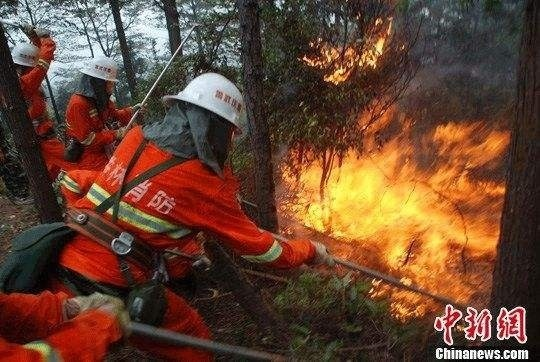fire: (280, 113, 509, 317), (301, 12, 395, 84)
